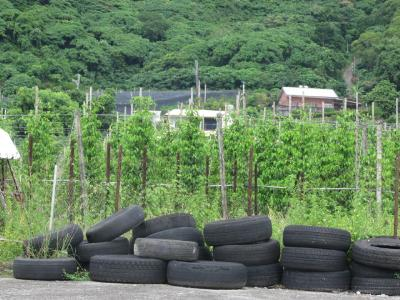tire: (168, 257, 248, 288), (85, 204, 146, 243), (89, 254, 167, 284), (204, 215, 273, 247), (21, 223, 85, 256), (281, 222, 351, 252), (278, 245, 349, 272), (281, 267, 351, 293), (212, 240, 281, 266), (132, 211, 197, 238), (351, 236, 400, 270), (12, 257, 79, 280), (75, 237, 132, 261), (351, 274, 400, 297)
